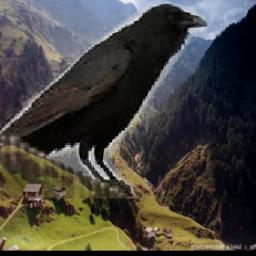Crow: (0, 0, 207, 199)
